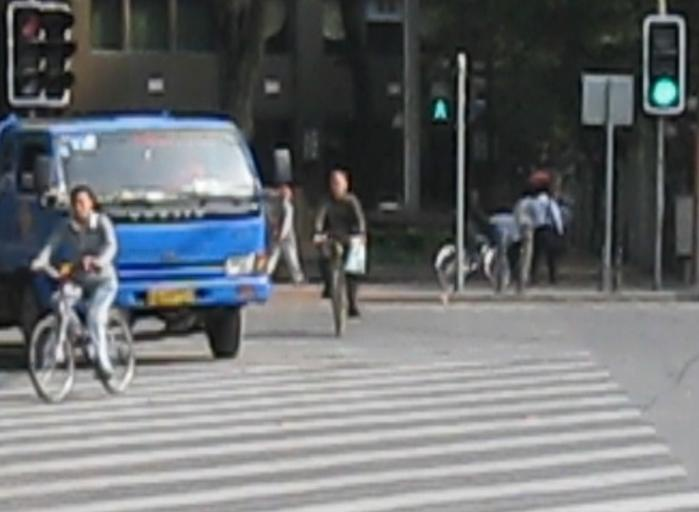non-vehicle: (27, 262, 135, 403), (315, 230, 366, 336), (434, 234, 496, 291)
